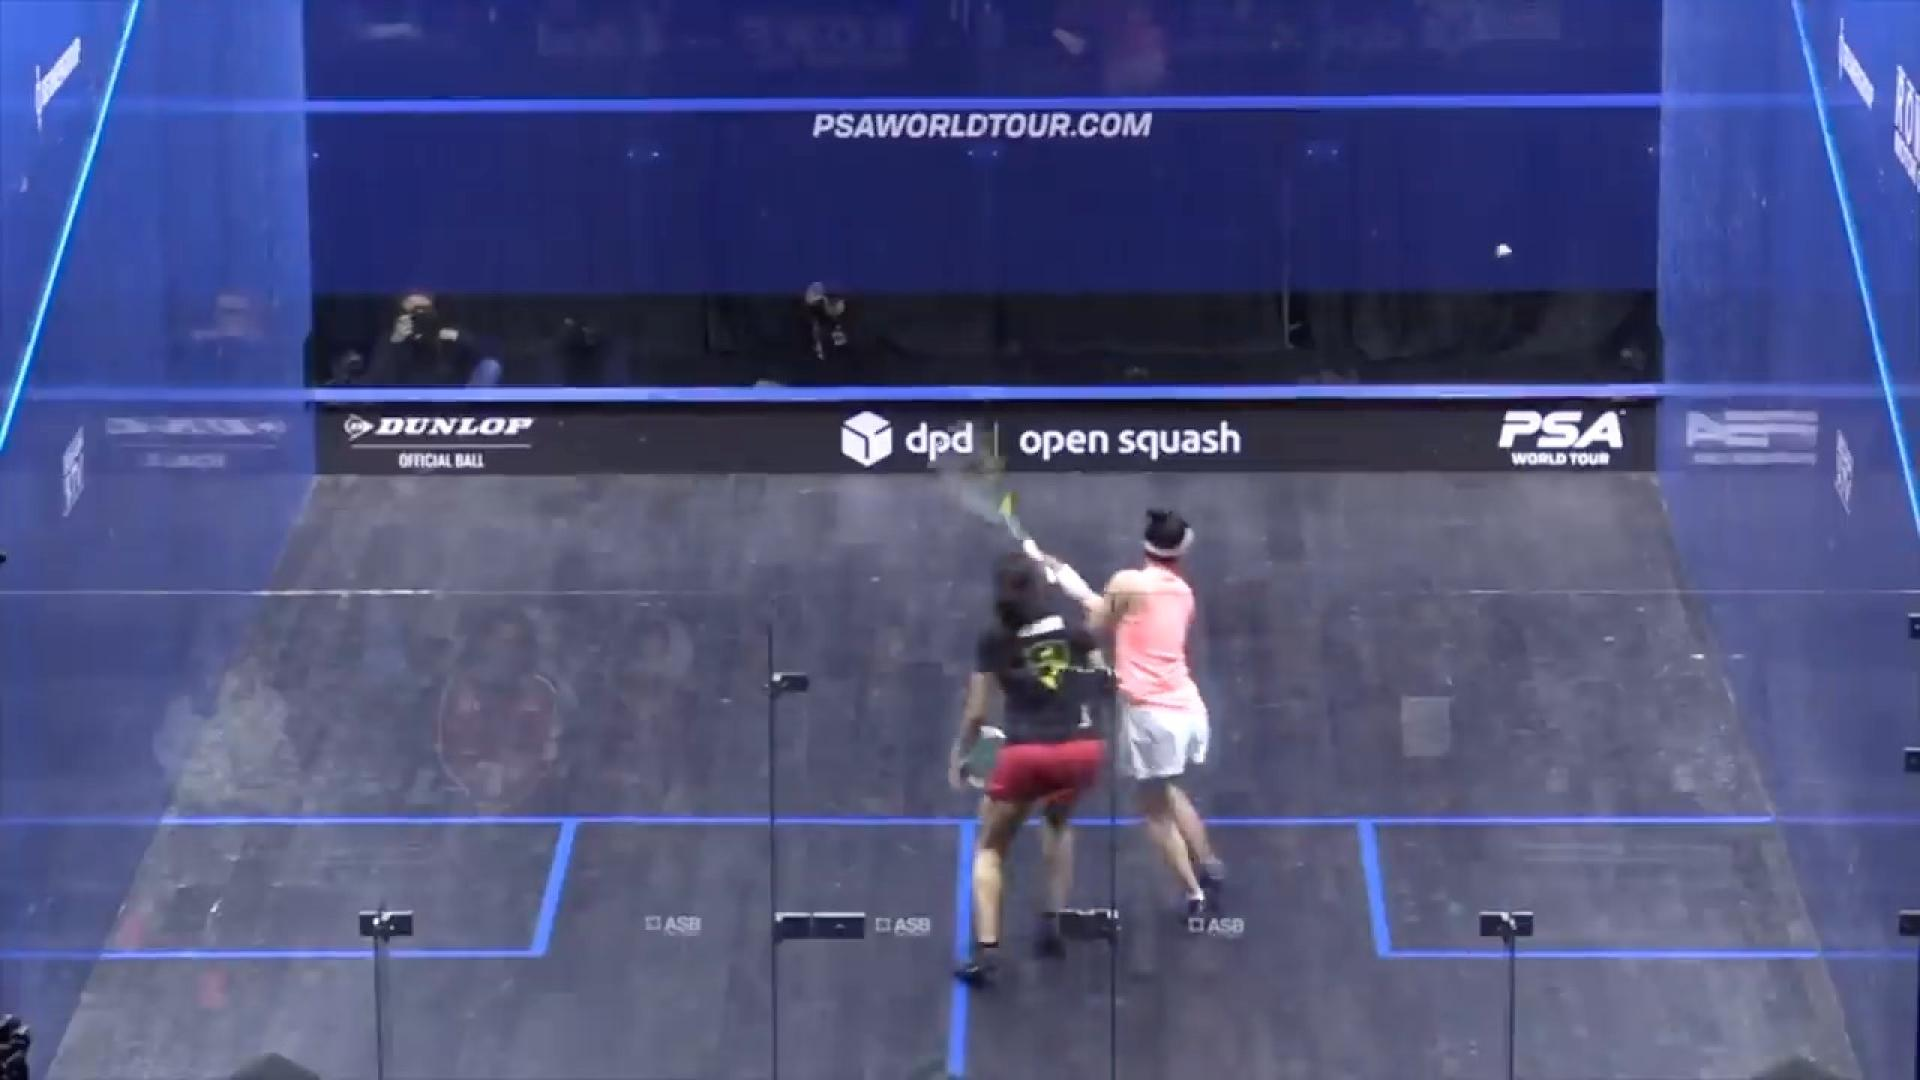Squash-Ball: (1482, 225, 1532, 280)
